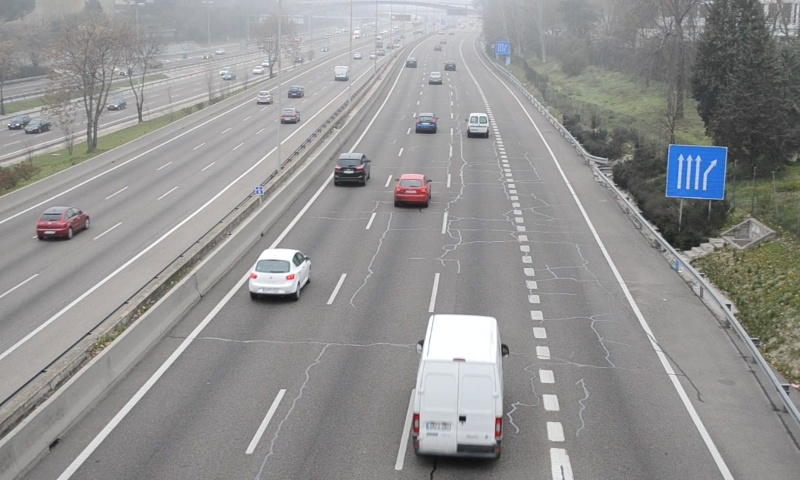car: (248, 248, 310, 295), (394, 173, 429, 205), (334, 153, 369, 184), (414, 112, 438, 134)
van: (412, 314, 504, 456), (467, 112, 490, 138)
